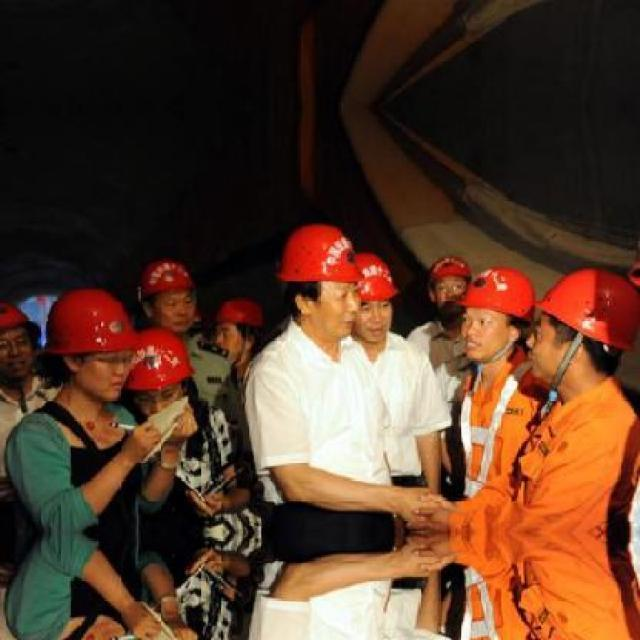red helmet: (538, 266, 640, 346), (47, 291, 144, 364), (456, 261, 543, 323), (284, 226, 364, 285), (129, 324, 196, 392), (136, 256, 204, 298), (356, 255, 398, 303), (218, 292, 270, 327), (2, 293, 38, 326), (431, 255, 473, 283)
